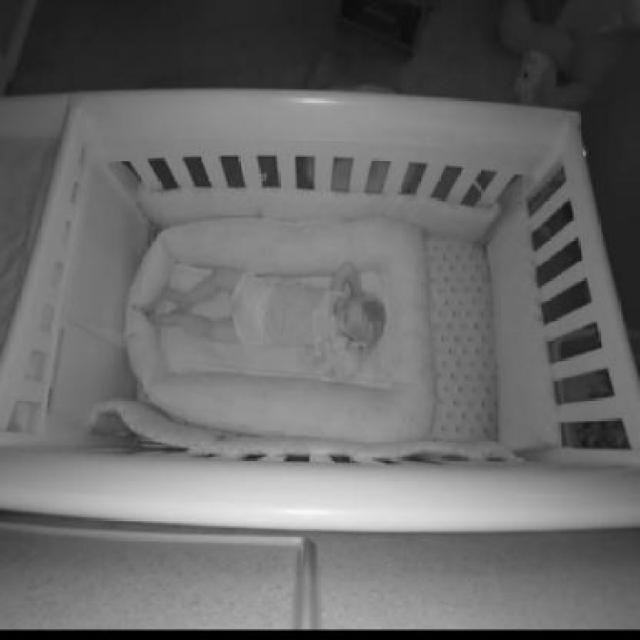baby: (153, 260, 389, 382)
